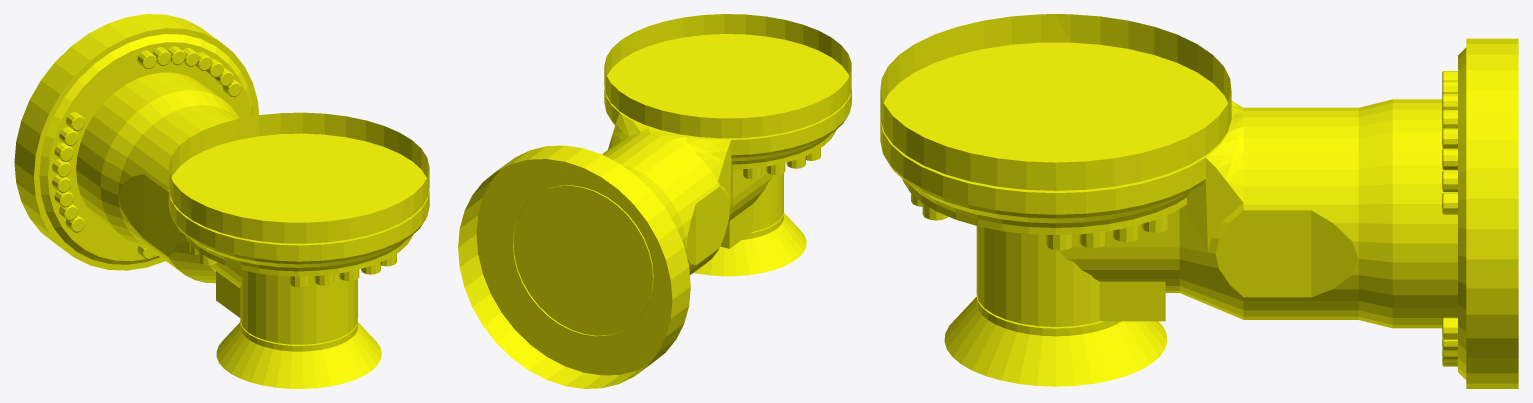
The picture shows the model from 3 angles, left to right: view 1: azimuth 30°, elevation 25°; view 2: azimuth 150°, elevation 25°; view 3: azimuth 270°, elevation 25°; orthographic projection. The views are drawn at different scales.
Parts seen in each view (by area): view 1: node; view 2: node; view 3: node.
Boxes of the visible parts, bbox=[...] form: node: bbox=[14, 14, 429, 388]; node: bbox=[458, 14, 851, 388]; node: bbox=[880, 14, 1518, 388].
Size of the model in its own units: 208 by 208 by 378.
